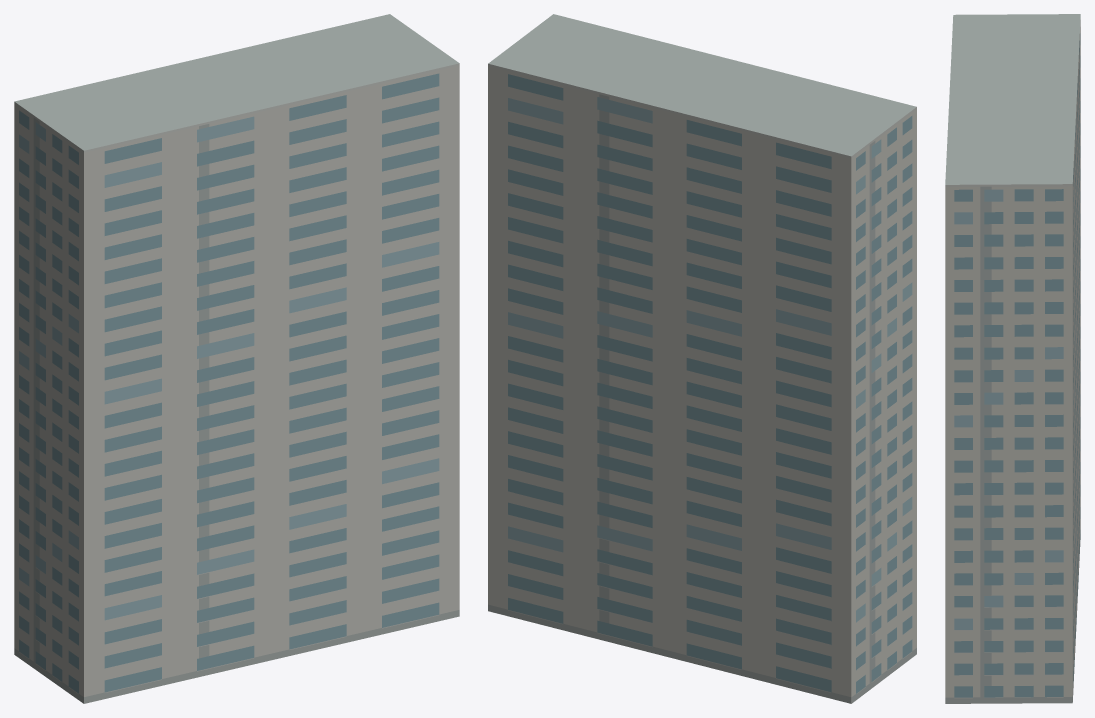
The model's file is residential-3cb708cc-664f-4caf-81eb-2d6135ffb689.glb.
3 views of the same model, side by side, from view 1: azimuth 30°, elevation 25°; view 2: azimuth 150°, elevation 25°; view 3: azimuth 270°, elevation 25° (orthographic). The views are drawn at different scales.
Visible parts, largest first — view 1: residential-3cb708cc-664f-4caf-81eb-2d6135ffb689.tmp; view 2: residential-3cb708cc-664f-4caf-81eb-2d6135ffb689.tmp; view 3: residential-3cb708cc-664f-4caf-81eb-2d6135ffb689.tmp.
Boxes of the visible parts, <box> form: residential-3cb708cc-664f-4caf-81eb-2d6135ffb689.tmp: <box>14,14,459,703</box>; residential-3cb708cc-664f-4caf-81eb-2d6135ffb689.tmp: <box>488,14,916,703</box>; residential-3cb708cc-664f-4caf-81eb-2d6135ffb689.tmp: <box>945,14,1080,703</box>.
Bounding box in the file's own units: 43.79 × 62 × 14.68.
